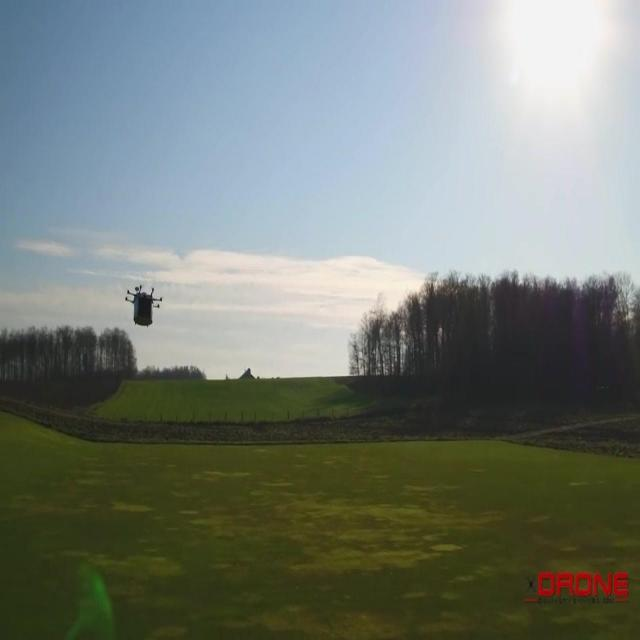UAV: (125, 285, 163, 327)
